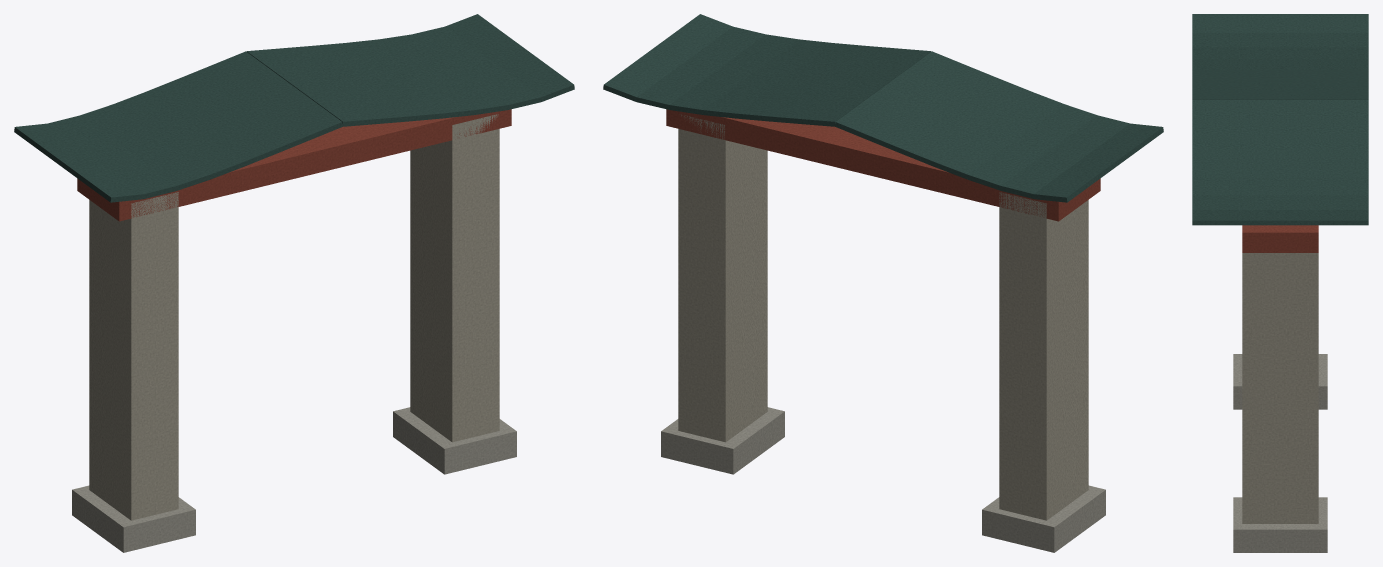
File: CHINGAT2_lod2.glb
3 renders of one model, left to right at view 1: azimuth 30°, elevation 25°; view 2: azimuth 150°, elevation 25°; view 3: azimuth 270°, elevation 25°, orthographic. The views are drawn at different scales.
Visible parts, largest first — view 1: CHINGAT2_LOD2; view 2: CHINGAT2_LOD2; view 3: CHINGAT2_LOD2.
Boxes of the visible parts, x1=… form: CHINGAT2_LOD2: x1=14, y1=14, x2=574, y2=552; CHINGAT2_LOD2: x1=603, y1=14, x2=1163, y2=552; CHINGAT2_LOD2: x1=1192, y1=14, x2=1368, y2=552.
Bounding box in the file's own units: 8.33 × 6.85 × 3.
4 materials, 4 textured.
